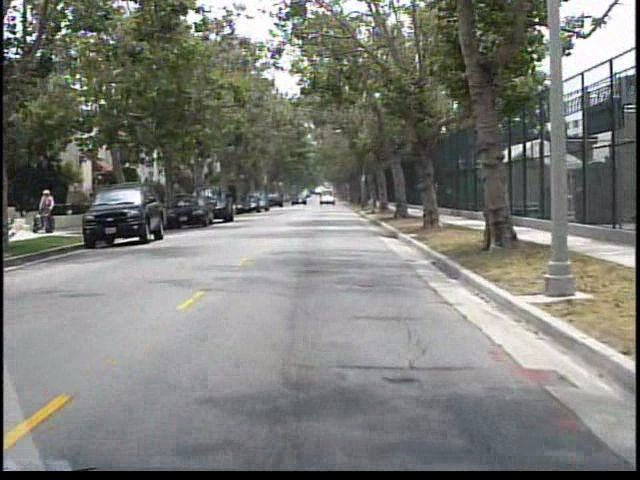person: (39, 188, 61, 235)
